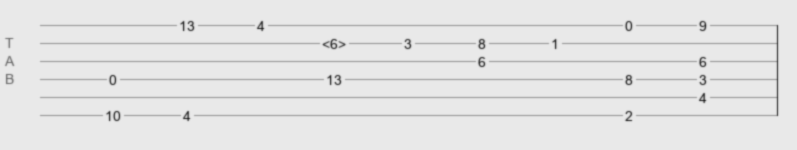0: (109, 72, 117, 82), (625, 18, 633, 28)
1: (551, 36, 559, 46)
10: (105, 108, 121, 118)
13: (179, 18, 195, 28), (326, 72, 342, 82)
2: (625, 108, 633, 118)
3: (404, 36, 412, 46), (699, 72, 707, 82)
4: (183, 108, 191, 118), (257, 18, 265, 28), (699, 90, 707, 100)
6: (478, 54, 486, 64), (699, 54, 707, 64)
8: (478, 36, 486, 46), (625, 72, 633, 82)
9: (699, 18, 707, 28)
harmonic: (322, 36, 346, 46)
